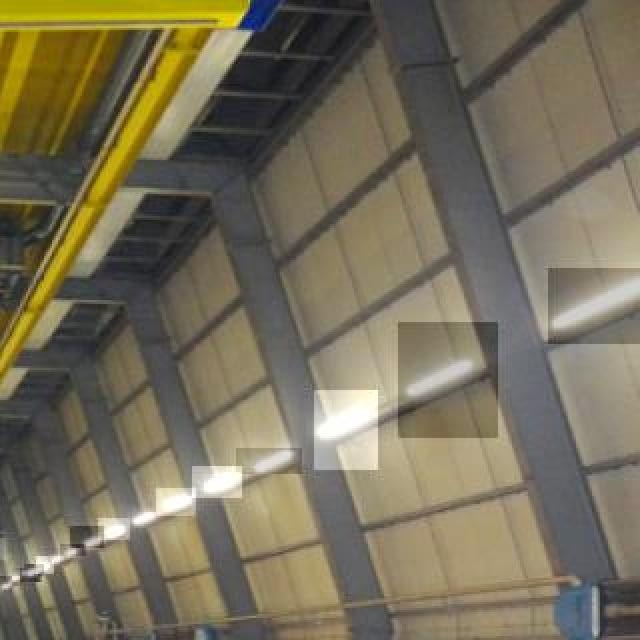fluorescent tube: (549, 264, 636, 338), (407, 347, 493, 402), (309, 391, 376, 449), (157, 482, 199, 516), (193, 467, 249, 491), (253, 446, 289, 477)
